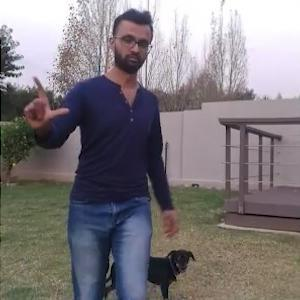land_hand: (17, 71, 68, 130)
